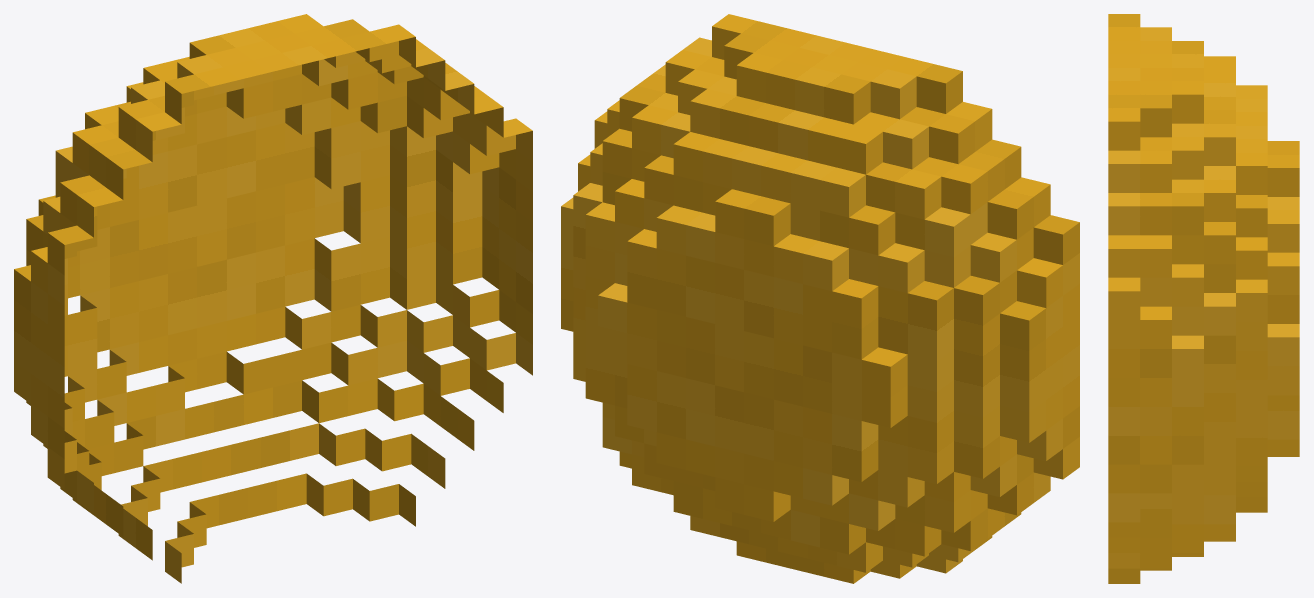
Rendered from DoorLock_key.fbx.
The picture shows the model from 3 angles, left to right: view 1: azimuth 30°, elevation 25°; view 2: azimuth 150°, elevation 25°; view 3: azimuth 270°, elevation 25°; orthographic projection. The views are drawn at different scales.
Parts seen in each view (by area): view 1: Door_lock_Key_1; view 2: Door_lock_Key_1; view 3: Door_lock_Key_1.
Part boxes in pixels (<box>): Door_lock_Key_1: <box>14,14,532,583</box>; Door_lock_Key_1: <box>561,14,1079,583</box>; Door_lock_Key_1: <box>1108,14,1299,583</box>.
Size of the model in its own units: 16 by 16 by 6.
Materials: 1 (1 with a texture image).
